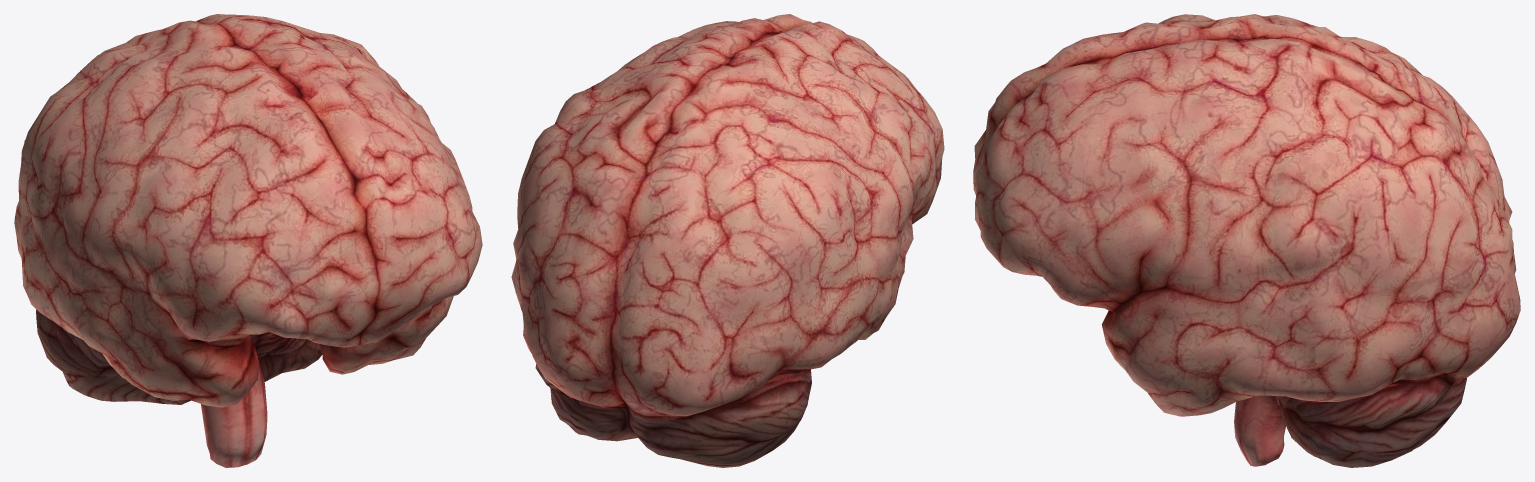
Rendered from brain.glb.
The picture shows the model from 3 angles, left to right: view 1: azimuth 30°, elevation 25°; view 2: azimuth 150°, elevation 25°; view 3: azimuth 270°, elevation 25°; orthographic projection. The views are drawn at different scales.
Parts seen in each view (by area): view 1: Object_5; view 2: Object_5; view 3: Object_5.
Boxes of the visible parts, x1,y1,x2,y2 form: Object_5: (14,14,482,467); Object_5: (511,14,944,467); Object_5: (973,14,1520,467).
Size of the model in its own units: 0.7609 by 0.8547 by 0.991.
Materials: 1 (1 with a texture image).
